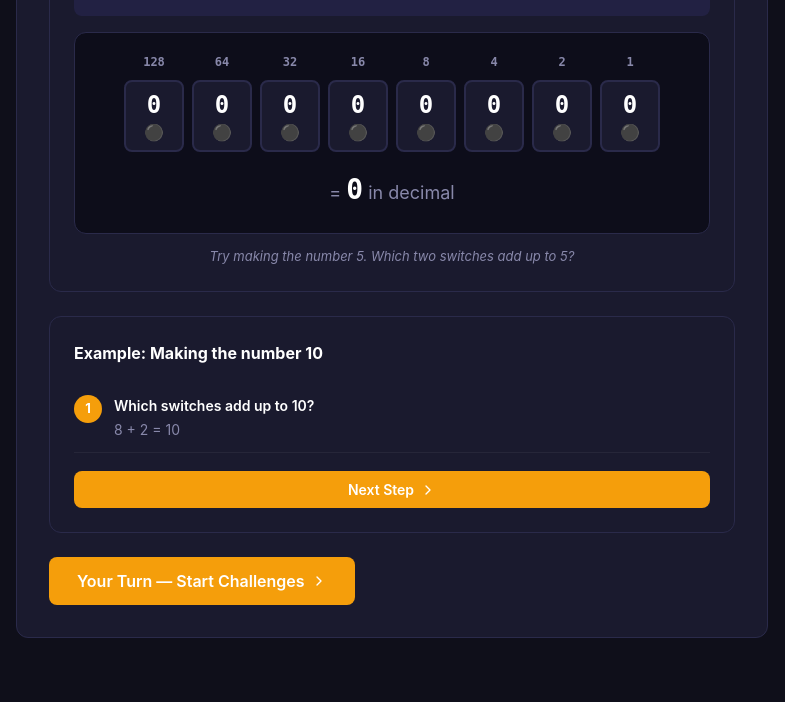
it: ModulePage challenge flow › shows challenges in order with run buttons
The width and height of the screenshot is (785, 702).
(page scrolled)
Click the button with test id "start-challenges" at (202, 581), box [49,557,355,605]
(page scrolled)
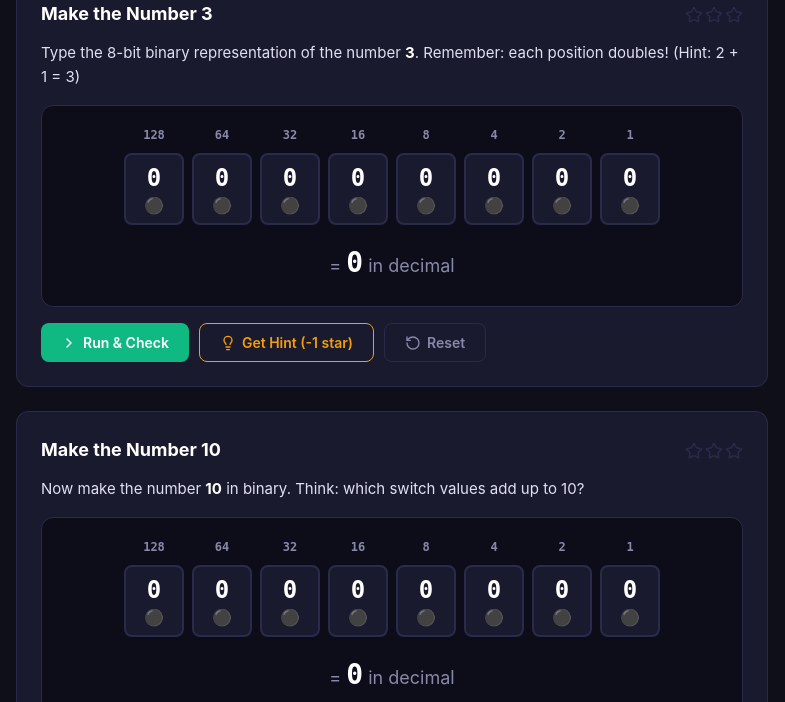
Result: the button with test id "run-bin-1-1" is shown at [41,323,189,362]
